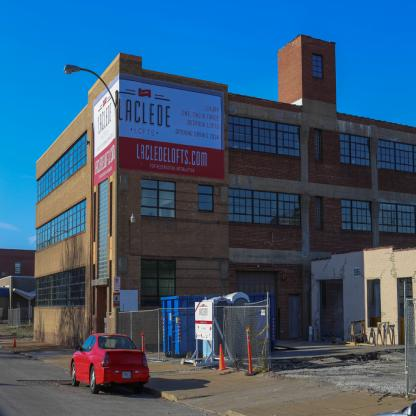Car: (71, 335, 151, 397), (374, 402, 416, 416)
